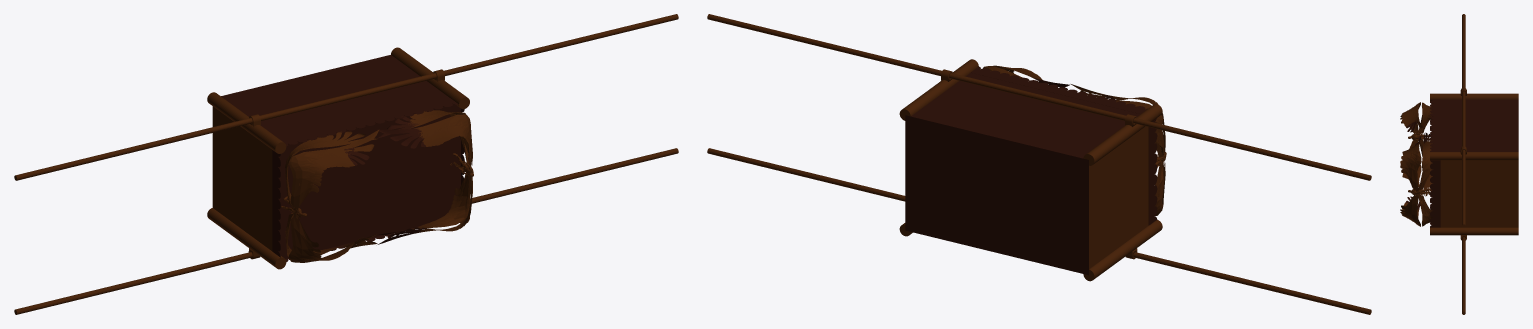
The model's file is tabernacle-ark-alternative.optimized.glb.
The picture shows the model from 3 angles, left to right: view 1: azimuth 30°, elevation 25°; view 2: azimuth 150°, elevation 25°; view 3: azimuth 270°, elevation 25°; orthographic projection. The views are drawn at different scales.
Visible parts, largest first — view 1: Ark, Ark_0.001; view 2: Ark, Ark_0.001; view 3: Ark, Ark_0.001.
Part boxes in pixels (<box>): Ark: <box>14,14,678,314</box>; Ark_0.001: <box>285,129,473,262</box>; Ark: <box>707,14,1371,314</box>; Ark_0.001: <box>1070,84,1165,215</box>; Ark: <box>1400,14,1518,314</box>; Ark_0.001: <box>1400,102,1432,196</box>.
Size of the model in its own units: 9 by 1.85 by 2.15.
